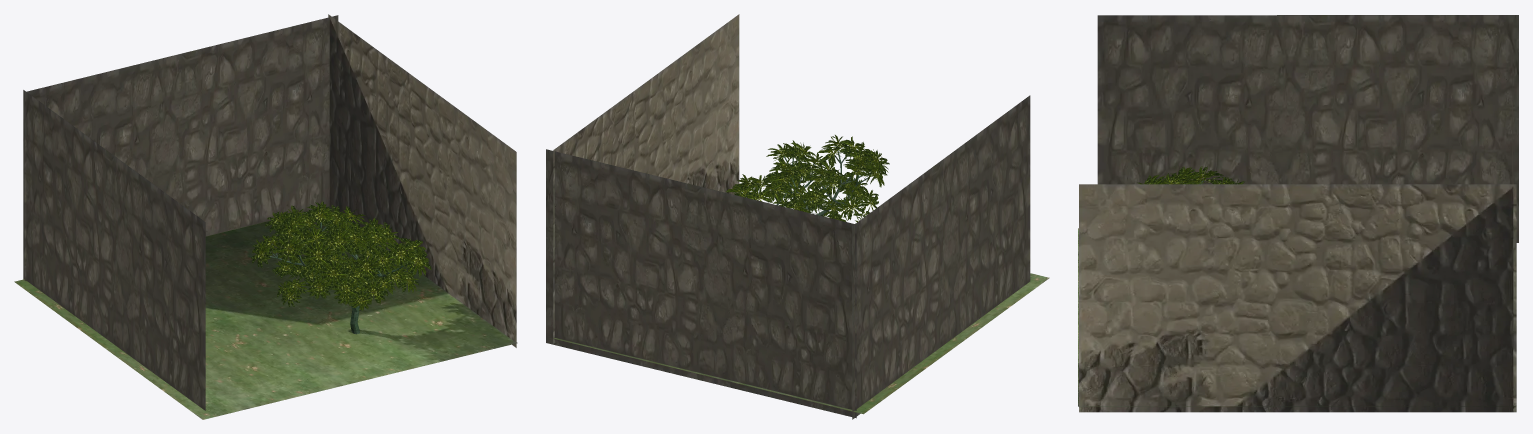
Rendered from yard-transformed.glb.
3 renders of one model, left to right at view 1: azimuth 30°, elevation 25°; view 2: azimuth 150°, elevation 25°; view 3: azimuth 270°, elevation 25°, orthographic. The views are drawn at different scales.
Parts seen in each view (by area): view 1: green_grass_Baked, tree.002, tree.003; view 2: green_grass_Baked, tree.002, tree.003; view 3: green_grass_Baked, tree.002.
Boxes of the visible parts, x1=… form: green_grass_Baked: x1=14, y1=14, x2=517, y2=419; tree.002: x1=251, y1=201, x2=431, y2=310; tree.003: x1=269, y1=218, x2=417, y2=334; green_grass_Baked: x1=546, y1=14, x2=1049, y2=419; tree.002: x1=726, y1=135, x2=889, y2=223; tree.003: x1=742, y1=146, x2=870, y2=215; green_grass_Baked: x1=1078, y1=15, x2=1518, y2=412; tree.002: x1=1137, y1=166, x2=1244, y2=184.
Size of the model in its own units: 12.82 by 7.79 by 13.05.
Materials: 3 (3 with a texture image).
